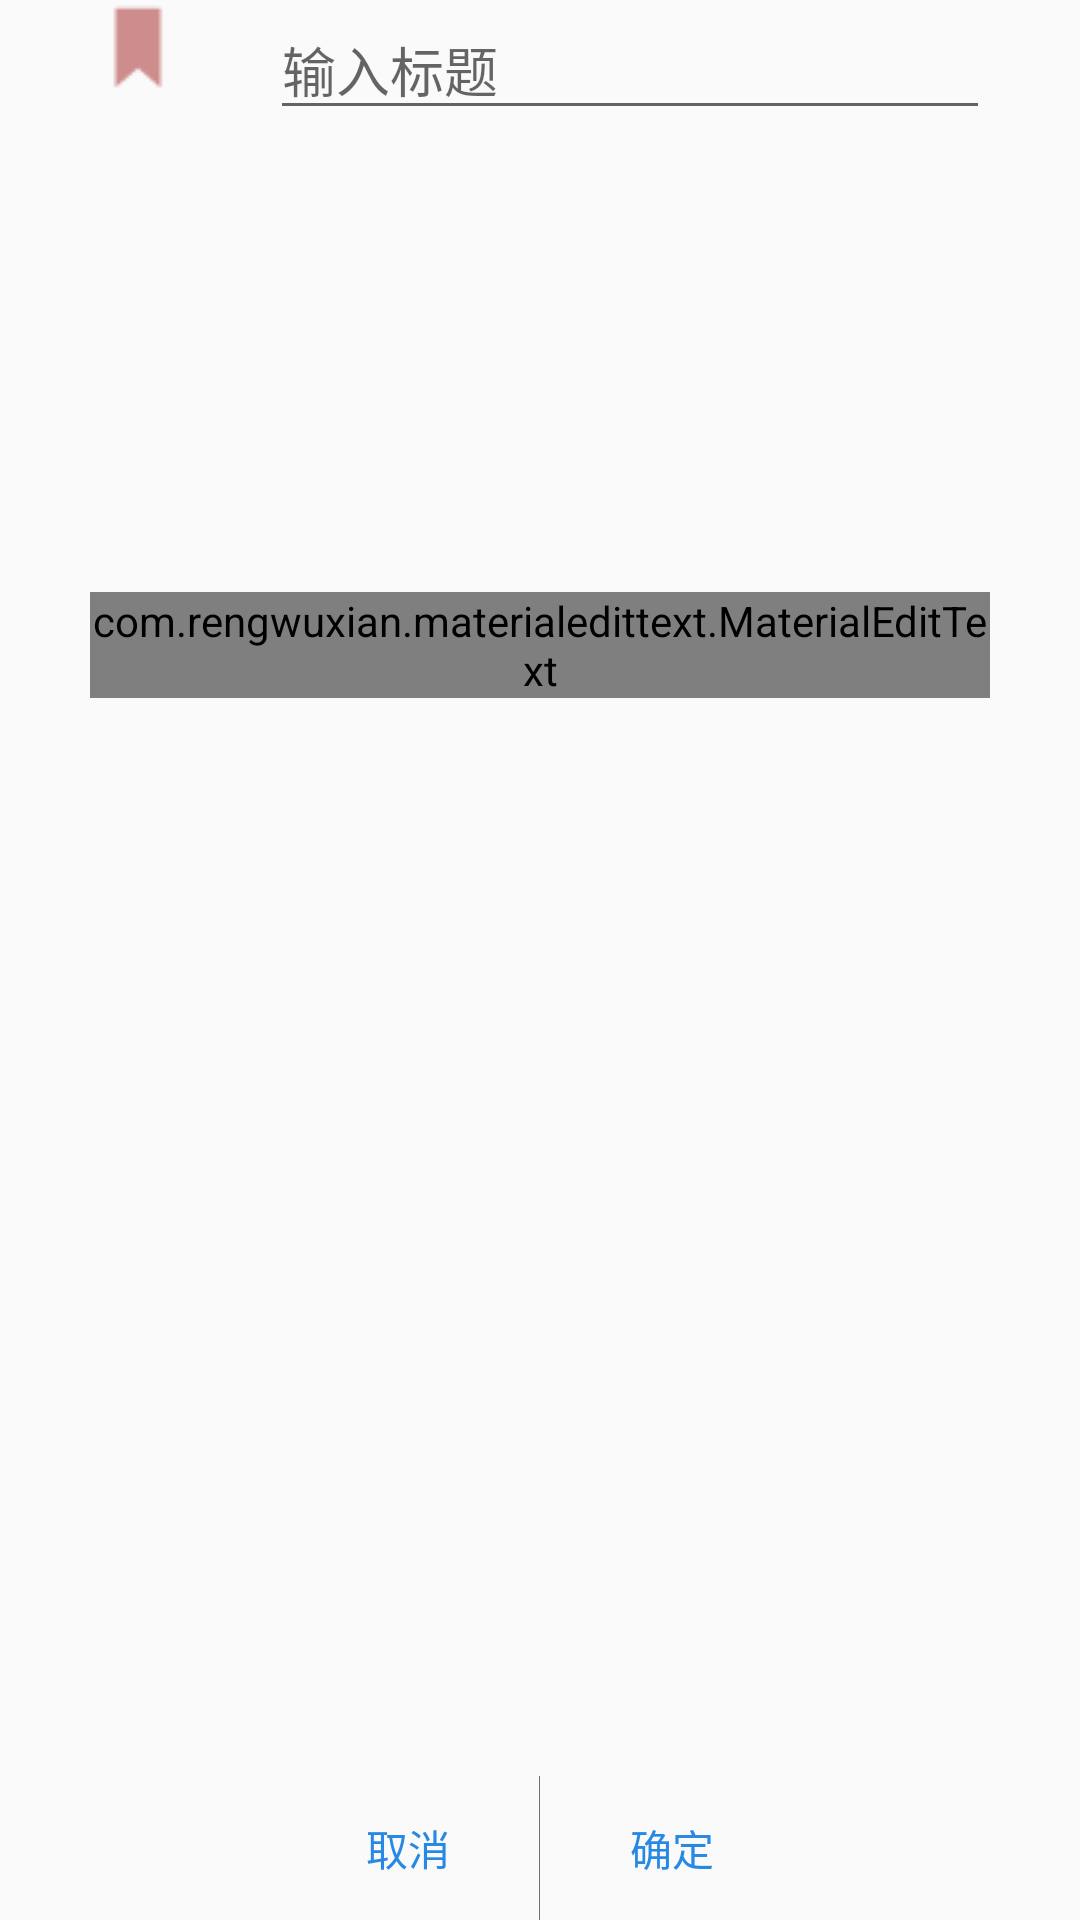

Named icons in this screenshot (1080 x 1920) and their centers, (x,y):
addnote mark: (138,47)
